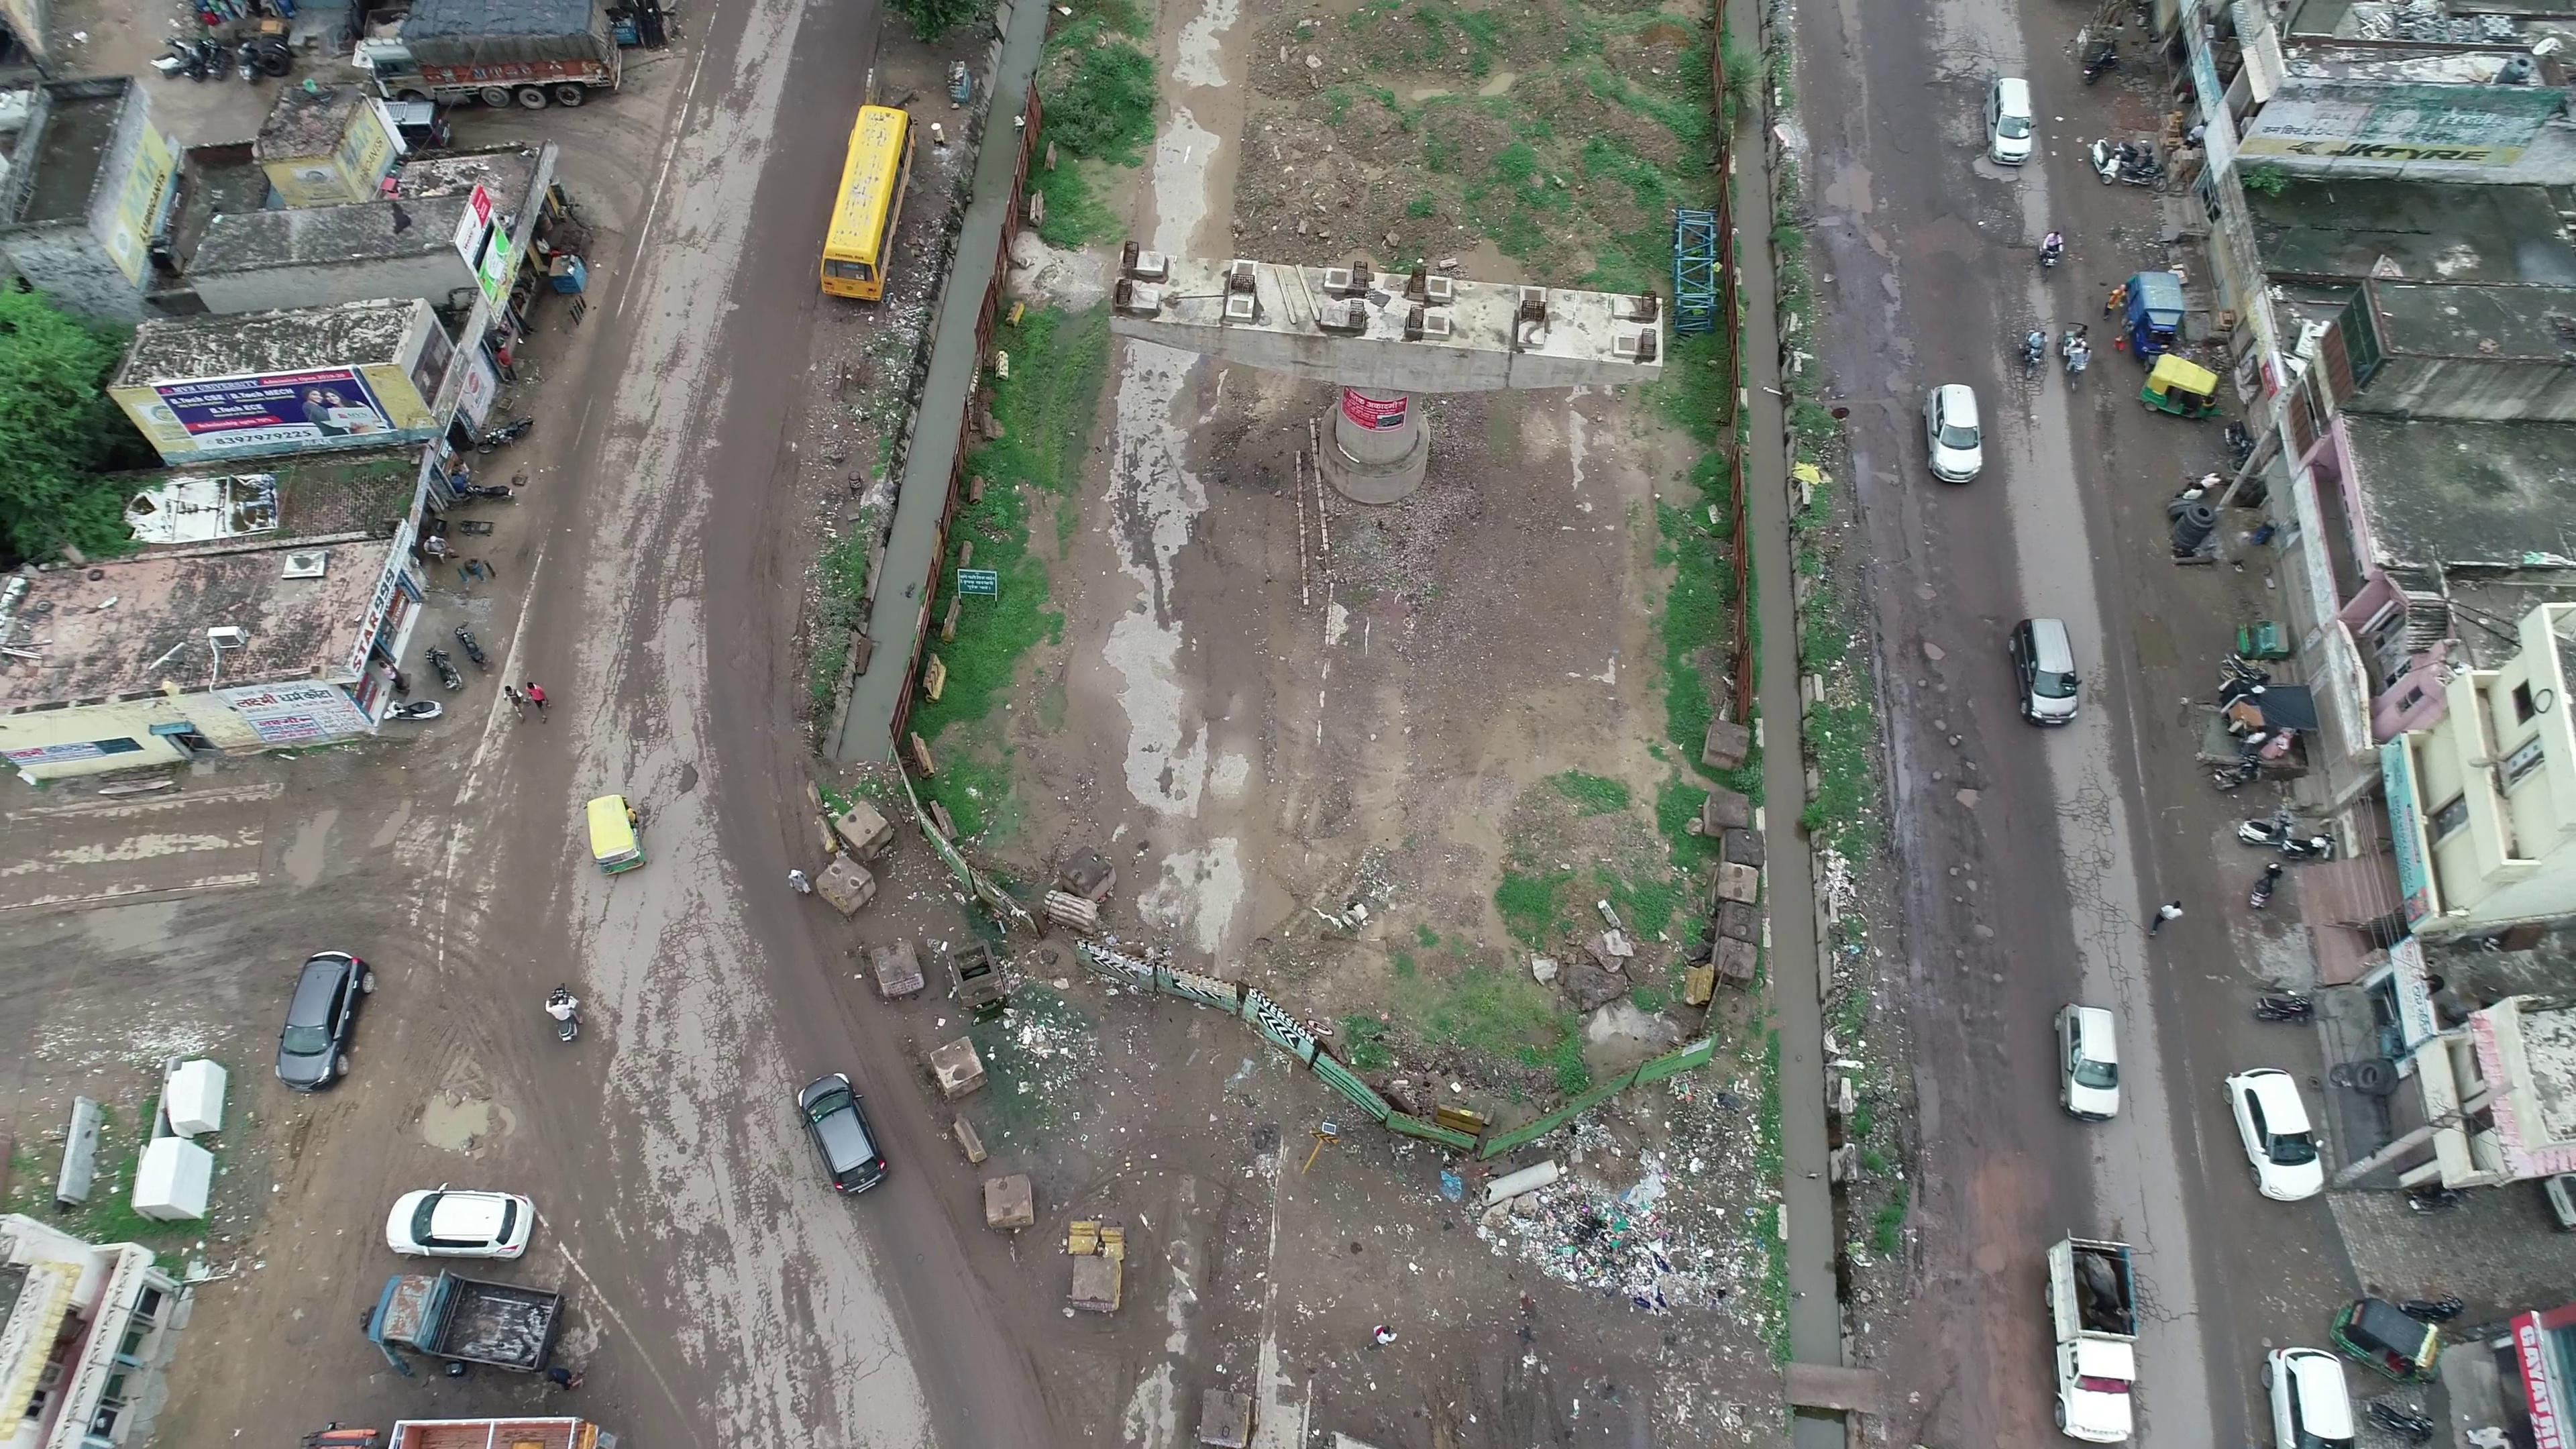Potholes: (1898, 633, 1996, 837), (1934, 853, 2017, 1010)
